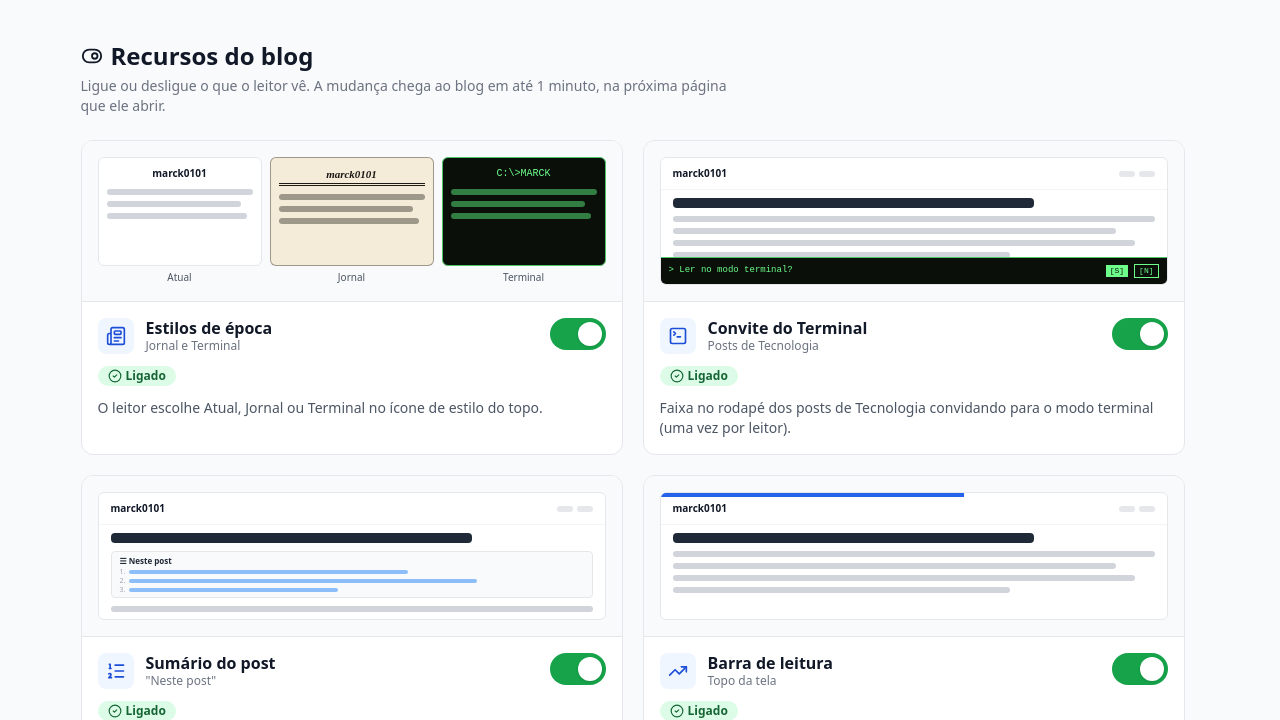
it: página Recursos do blog (painel) › erro ao salvar: mostra o motivo, continua aberto e nada muda
Click the switch named "Barra de leitura": (1140, 669) x1=1112 y1=653 x2=1168 y2=685
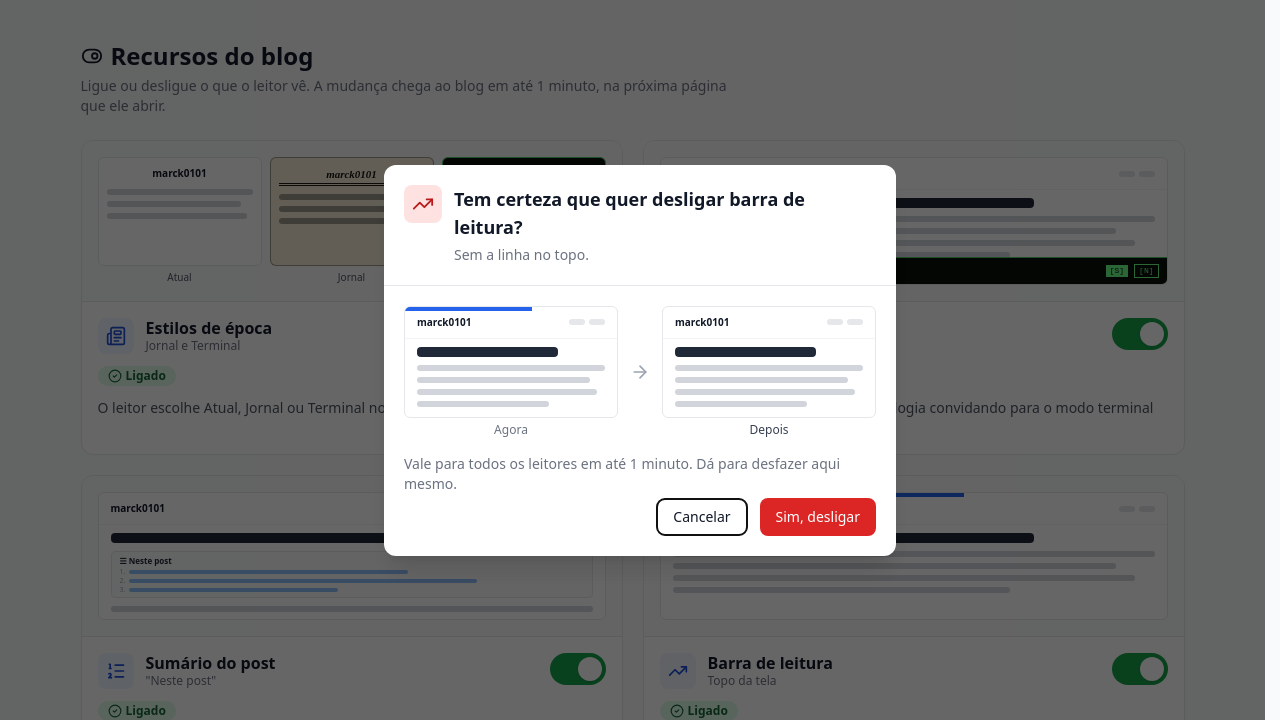
Click the button "Sim, desligar": (818, 516) x1=760 y1=498 x2=876 y2=536
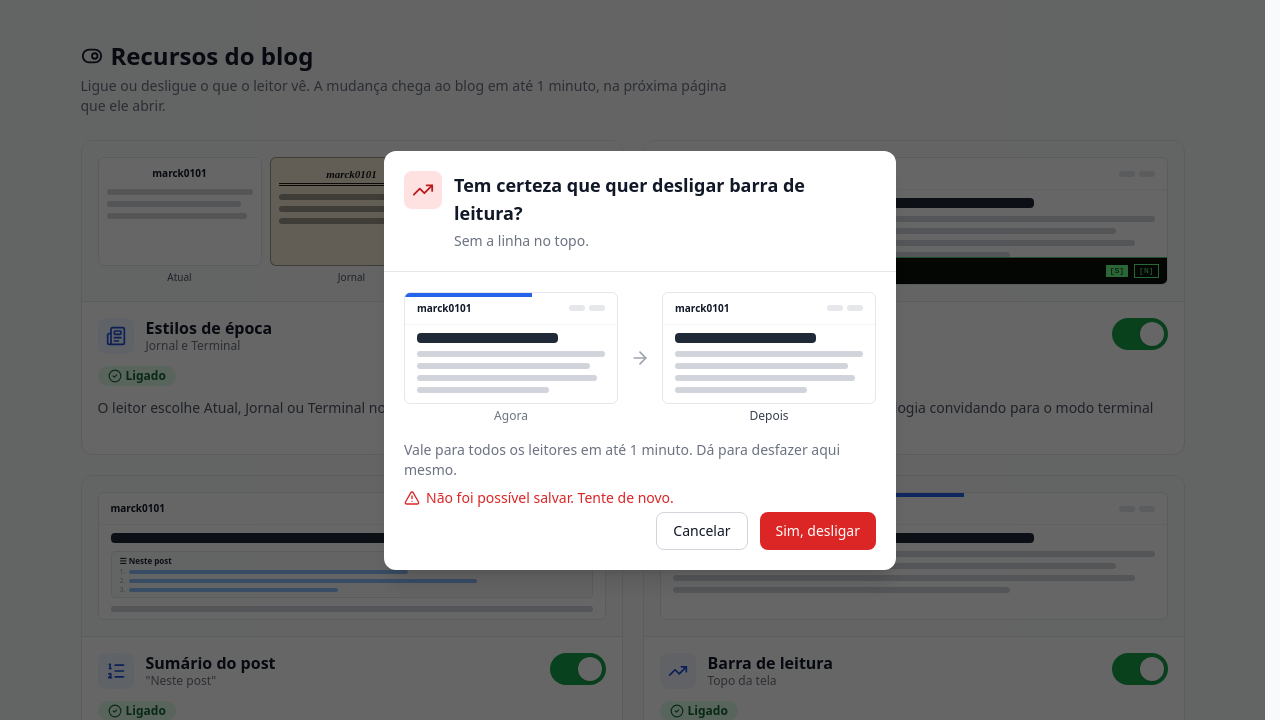
Now the dialog is shown, box x1=384 y1=150 x2=896 y2=570
Now the message "Não foi possível salvar. Tente de novo." is shown, box x1=404 y1=488 x2=674 y2=506
